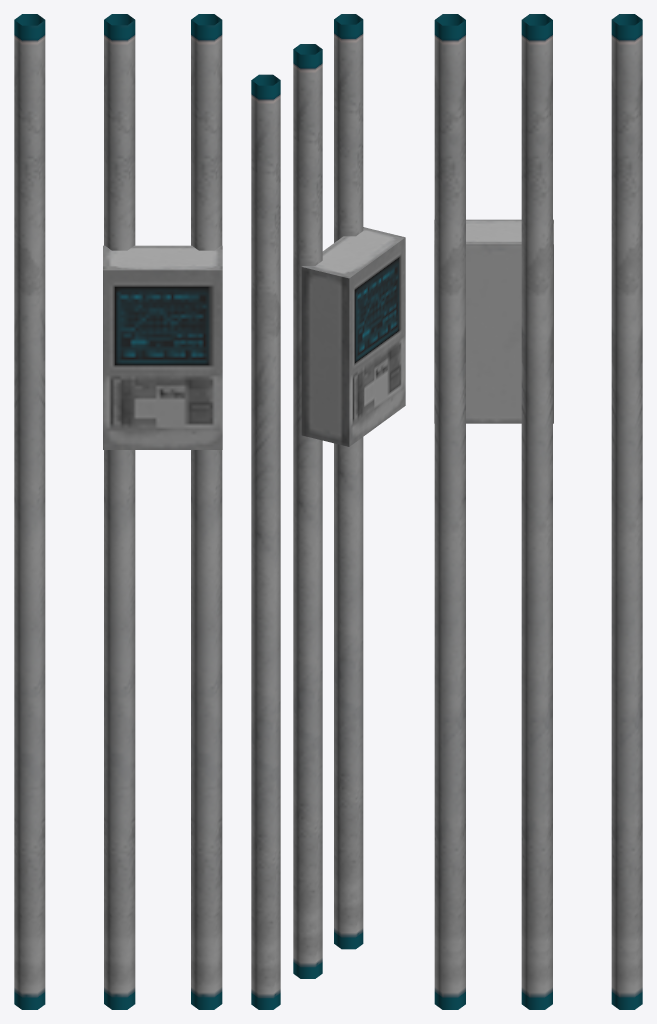
File: CP_Pipe_A_2m_04.fbx
The picture shows the model from 3 angles, left to right: view 1: azimuth 90°, elevation 25°; view 2: azimuth 150°, elevation 25°; view 3: azimuth 270°, elevation 25°; orthographic projection. The views are drawn at different scales.
Parts seen in each view (by area): view 1: CP_Pipe_A_2m_04; view 2: CP_Pipe_A_2m_04; view 3: CP_Pipe_A_2m_04.
Part boxes in pixels (box(x1,y1,x2,y2)): CP_Pipe_A_2m_04: box(14, 14, 222, 1009); CP_Pipe_A_2m_04: box(251, 14, 405, 1009); CP_Pipe_A_2m_04: box(434, 14, 642, 1009).
Bounding box in the file's own units: 13.63 × 200 × 38.38.
